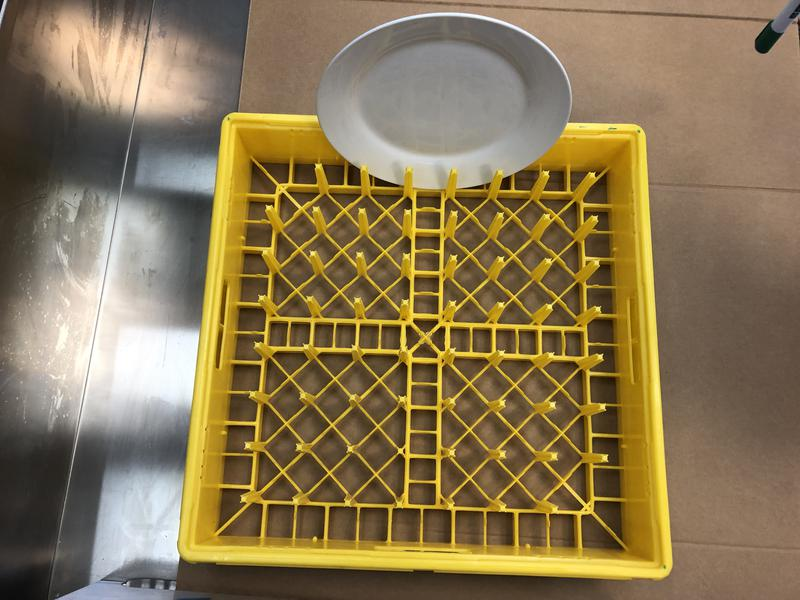Dish: (315, 10, 573, 193)
